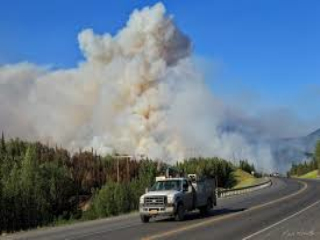smoke: (23, 9, 268, 165)
